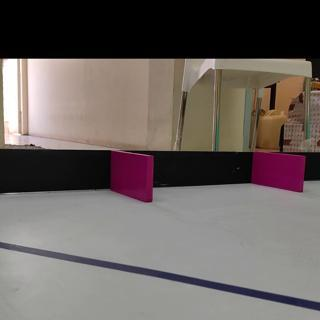xparking: (115, 154, 151, 202), (257, 154, 303, 190)
